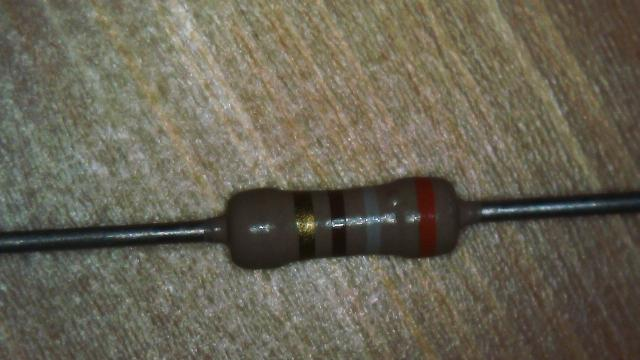brown: (328, 192, 346, 255)
gold: (296, 196, 315, 258)
orange: (416, 179, 436, 255)
resistor: (204, 167, 469, 282)
white: (360, 186, 382, 250)
